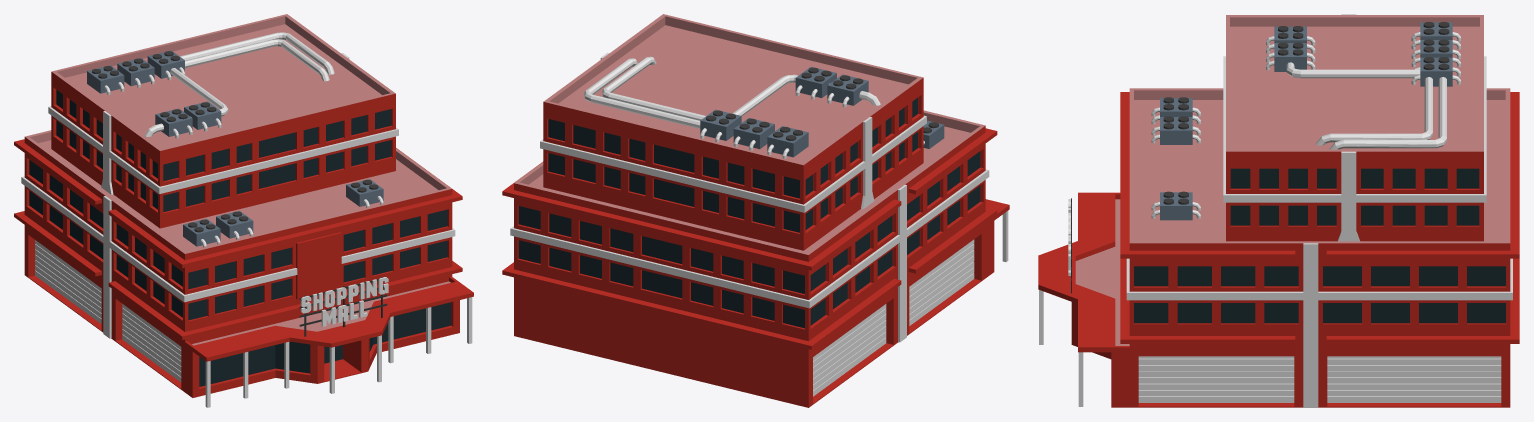
File: 03 Shopping Mall.fbx
3 renders of one model, left to right at view 1: azimuth 30°, elevation 25°; view 2: azimuth 150°, elevation 25°; view 3: azimuth 270°, elevation 25°, orthographic. The views are drawn at different scales.
Parts seen in each view (by area): view 1: Shopping_Mall; view 2: Shopping_Mall; view 3: Shopping_Mall.
Part boxes in pixels (x1,y1,x2,y2): Shopping_Mall: (14, 14, 473, 407); Shopping_Mall: (502, 14, 1009, 407); Shopping_Mall: (1038, 14, 1519, 407).
Bounding box in the file's own units: 423 × 309 × 530.
